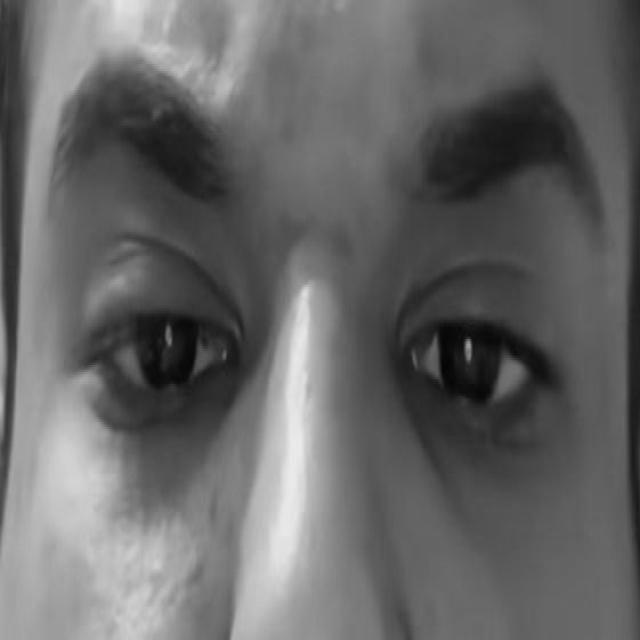real: (50, 184, 594, 480)
